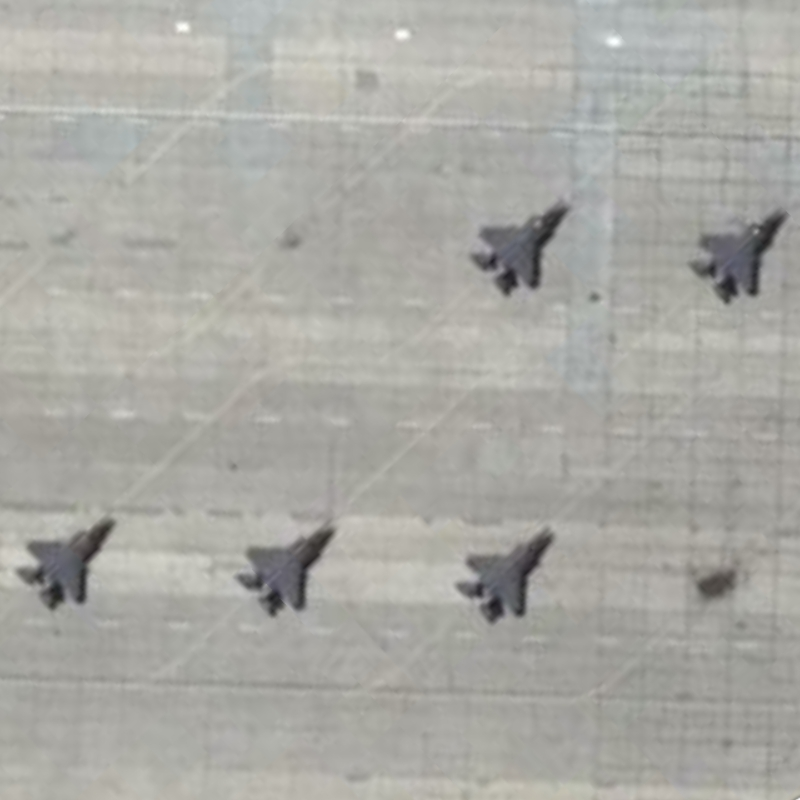A13: (457, 194, 575, 304), (680, 199, 793, 311), (228, 515, 343, 622), (450, 522, 562, 628), (11, 513, 125, 613)
